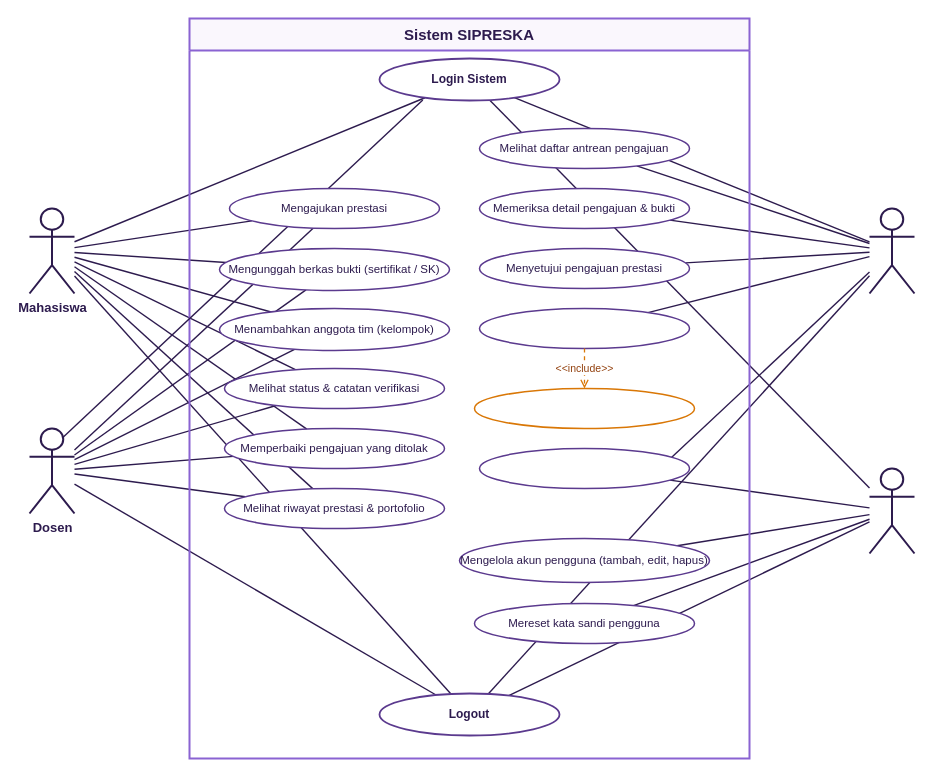
This 949x776 diagram has some shape labels left out. The centre of each missing label's shape, as x and y in pixels:
"Admin" belongs at point 891,250.
"Melihat statistik capaian sistem" belongs at point 584,468.
"Mengisi catatan verifikasi penolakan" belongs at point 584,408.
"Menolak pengajuan prestasi" belongs at point 584,328.
"Super Admin" belongs at point 891,510.
